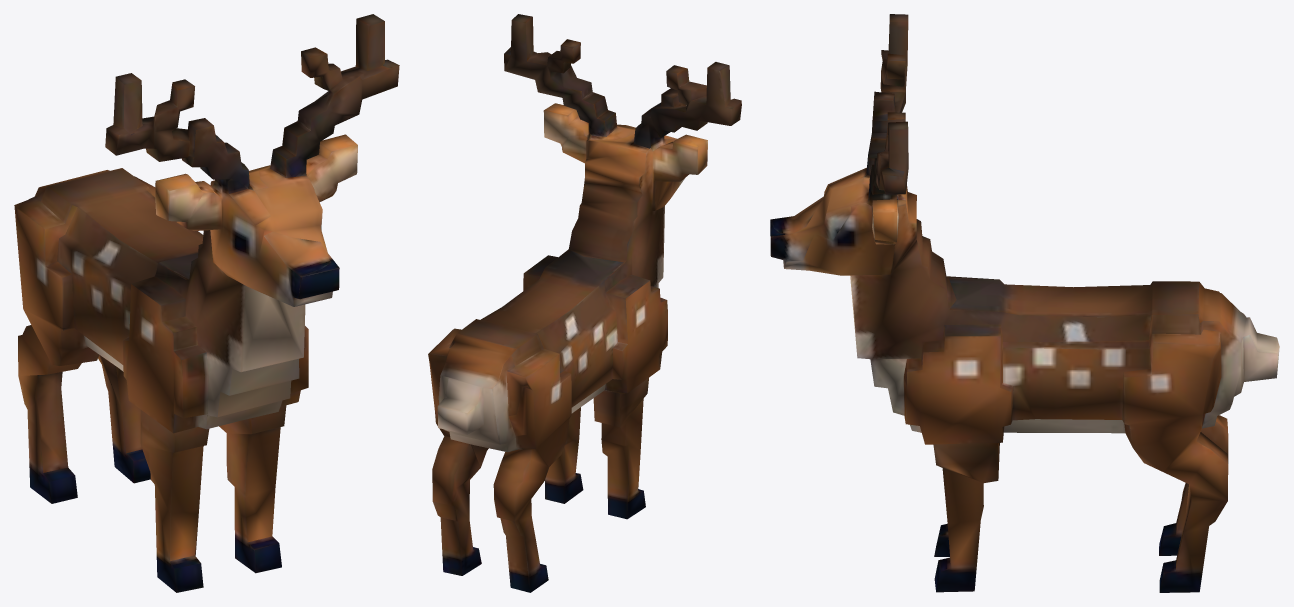
Rendered from deer.glb.
3 renders of one model, left to right at view 1: azimuth 30°, elevation 25°; view 2: azimuth 150°, elevation 25°; view 3: azimuth 270°, elevation 25°, orthographic. The views are drawn at different scales.
Visible parts, largest first — view 1: material.001; view 2: material.001; view 3: material.001.
Part boxes in pixels (x1,y1,x2,y2): material.001: (14,14,399,592); material.001: (428,14,741,592); material.001: (770,14,1279,592).
Bounding box in the file's own units: 0.5318 × 0.9824 × 0.9121.
1 material, 1 textured.
